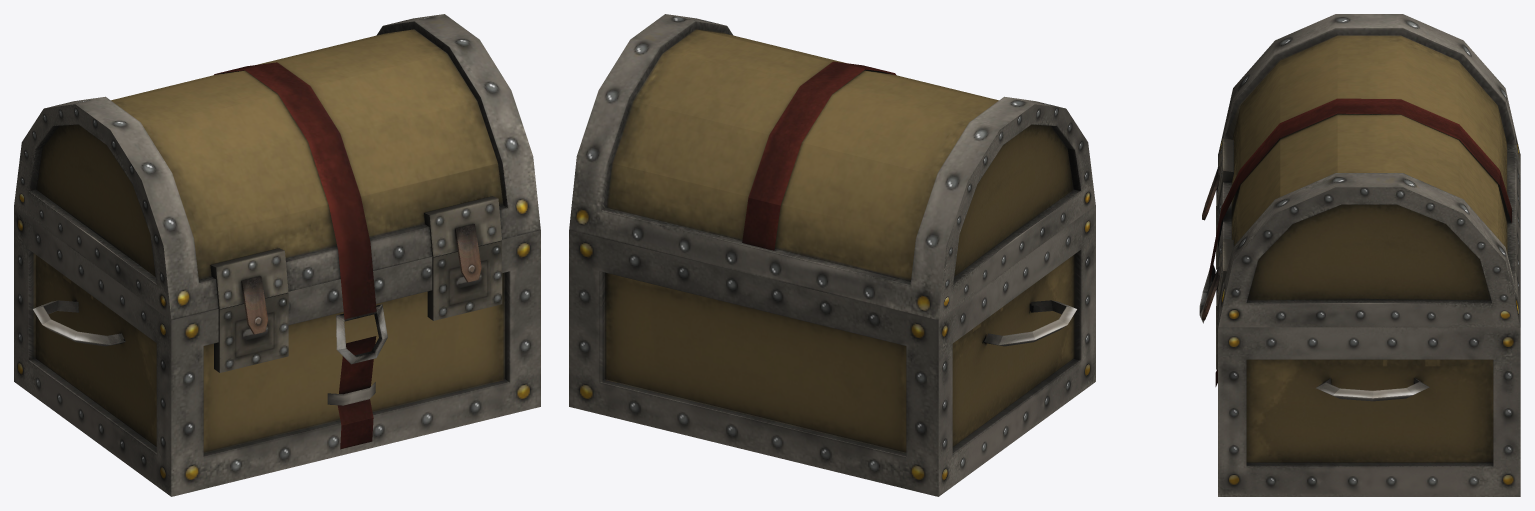
The model's file is MedievalChest_01_closed.fbx.
3 views of the same model, side by side, from view 1: azimuth 30°, elevation 25°; view 2: azimuth 150°, elevation 25°; view 3: azimuth 270°, elevation 25° (orthographic). The views are drawn at different scales.
Visible parts, largest first — view 1: Medieval_chest_01_closed; view 2: Medieval_chest_01_closed; view 3: Medieval_chest_01_closed.
Boxes of the visible parts, x1,y1,x2,y2 form: Medieval_chest_01_closed: (14,14,540,496); Medieval_chest_01_closed: (569,14,1095,496); Medieval_chest_01_closed: (1199,14,1520,496).
Size of the model in its own units: 28.62 by 18.8 by 21.79.
